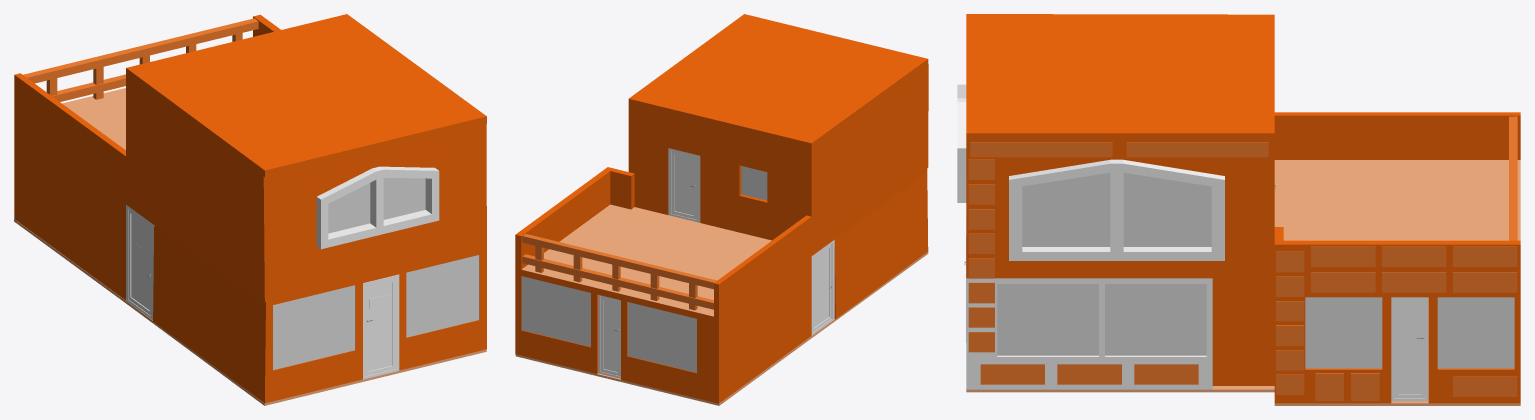
File: Cafe_4.fbx
3 views of the same model, side by side, from view 1: azimuth 30°, elevation 25°; view 2: azimuth 150°, elevation 25°; view 3: azimuth 270°, elevation 25° (orthographic). The views are drawn at different scales.
Visible parts, largest first — view 1: Cafe_4_Body.001, Cafe_4_Window.007, Cafe_4_Window.006, Cafe_4_Door.002, Cafe_4_Window.008, Cafe_4_Door.004; view 2: Cafe_4_Body.001, Cafe_4_Window.005, Cafe_4_Window.004, Cafe_4_Door.003, Cafe_4_Door.004, Cafe_4_Door.001, Cafe_4_Window.009; view 3: Cafe_4_Body.001, Cafe_4_Window.001, Cafe_4_Window, Cafe_4_Window.002, Cafe_4_Window.003, Cafe_4_Door.
Boxes of the visible parts, left/top/right/bottom form: Cafe_4_Body.001: left=14, top=14, right=486, bottom=405; Cafe_4_Window.007: left=273, top=285, right=355, bottom=369; Cafe_4_Window.006: left=406, top=255, right=479, bottom=337; Cafe_4_Door.002: left=363, top=274, right=399, bottom=379; Cafe_4_Window.008: left=328, top=177, right=425, bottom=233; Cafe_4_Door.004: left=126, top=205, right=154, bottom=319; Cafe_4_Body.001: left=515, top=14, right=928, bottom=405; Cafe_4_Window.005: left=627, top=302, right=696, bottom=372; Cafe_4_Window.004: left=521, top=276, right=590, bottom=346; Cafe_4_Door.003: left=668, top=148, right=700, bottom=222; Cafe_4_Door.004: left=811, top=240, right=834, bottom=335; Cafe_4_Door.001: left=598, top=295, right=620, bottom=378; Cafe_4_Window.009: left=741, top=166, right=767, bottom=200; Cafe_4_Body.001: left=957, top=14, right=1520, bottom=405; Cafe_4_Window.001: left=997, top=284, right=1206, bottom=355; Cafe_4_Window: left=1022, top=172, right=1211, bottom=246; Cafe_4_Window.002: left=1305, top=297, right=1382, bottom=368; Cafe_4_Window.003: left=1437, top=297, right=1514, bottom=368; Cafe_4_Door: left=1391, top=297, right=1428, bottom=401.
Bounding box in the file's own units: 1028 × 929 × 1831.
